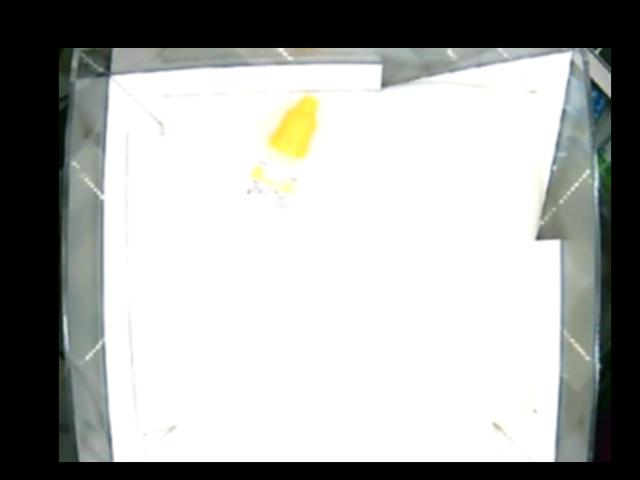Bottle: (246, 94, 319, 216)
